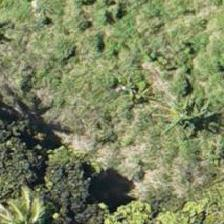coconut_tree: (0, 176, 75, 223)
